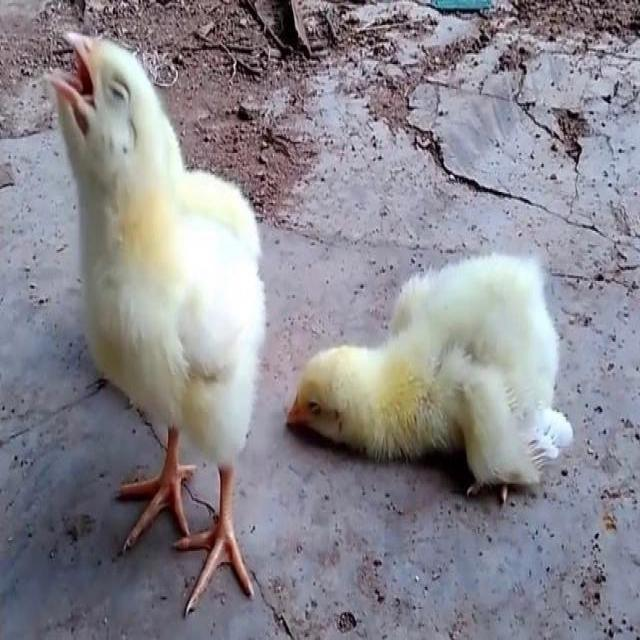Unhealthy: (282, 227, 594, 510)
